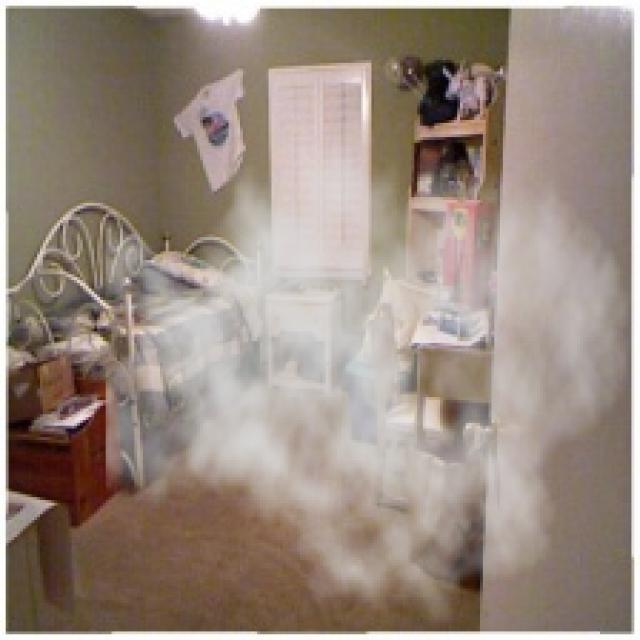Smoke: (106, 82, 632, 628)
